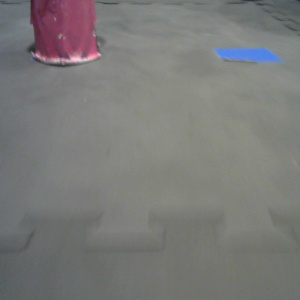middle: (29, 1, 101, 66)
